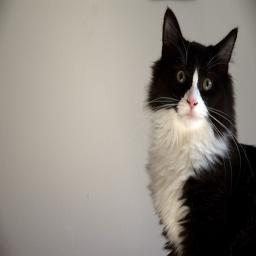catnose: (186, 95, 199, 112)
